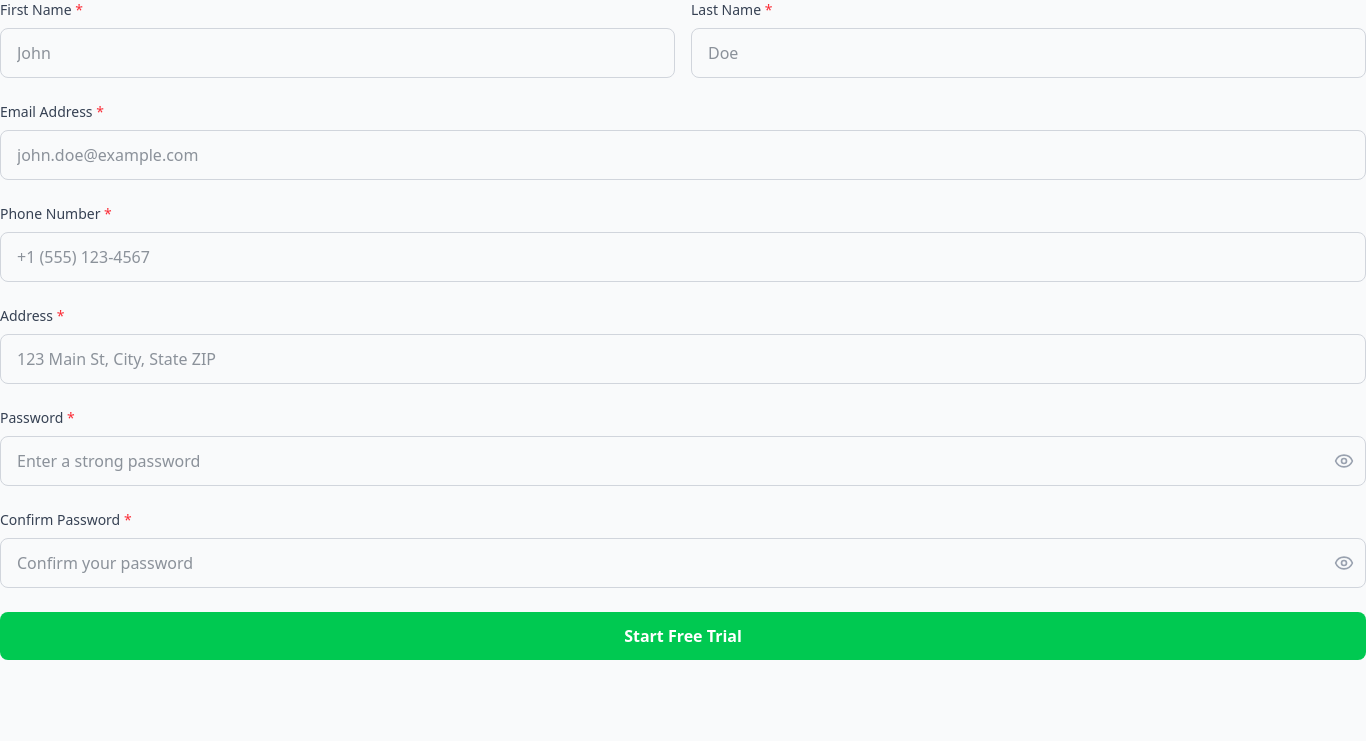
RegistrationForm › Password Strength Validation › should show password strength indicator when typing
Type "weak" into the password field labelled "Password *".
click(683, 461); type("weak")  # box top-left (0, 436), bottom-right (1365, 486)
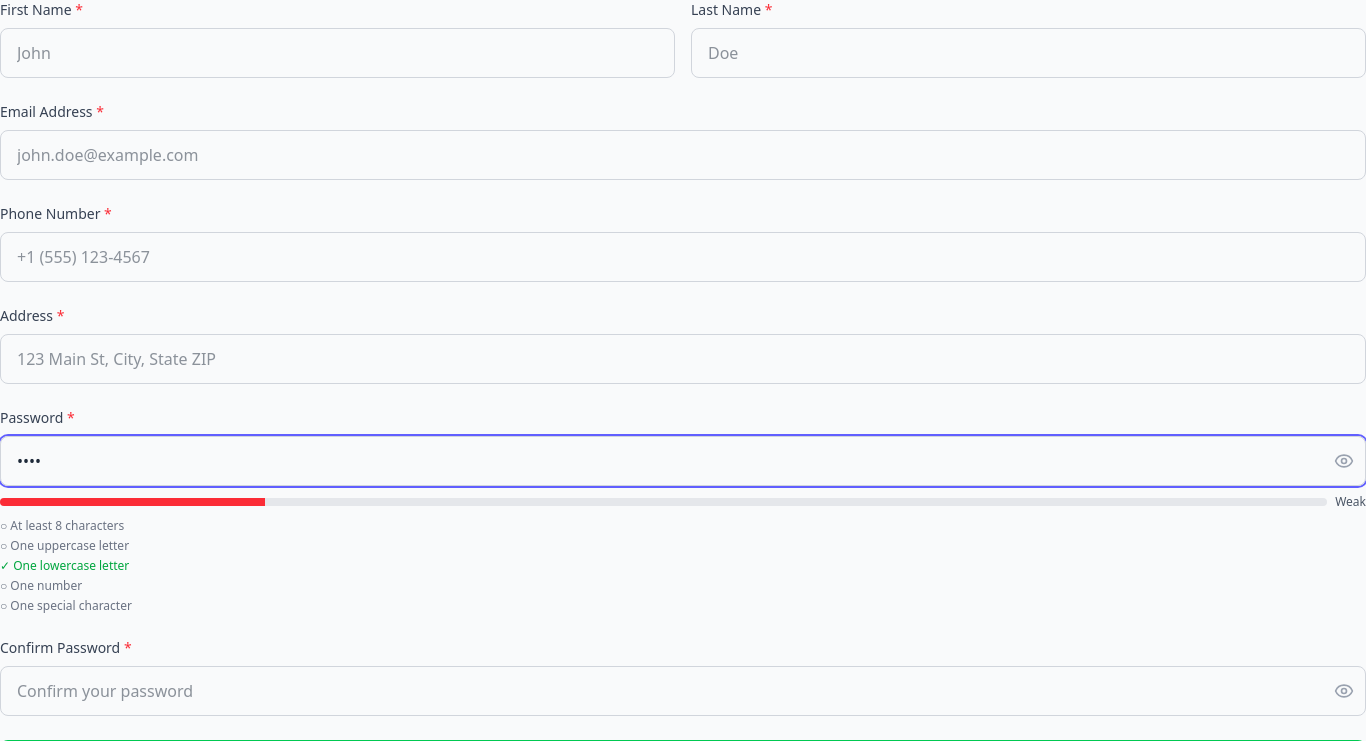
Now the list item "○ At least 8 characters" is shown, box top-left (0, 517), bottom-right (124, 534)
